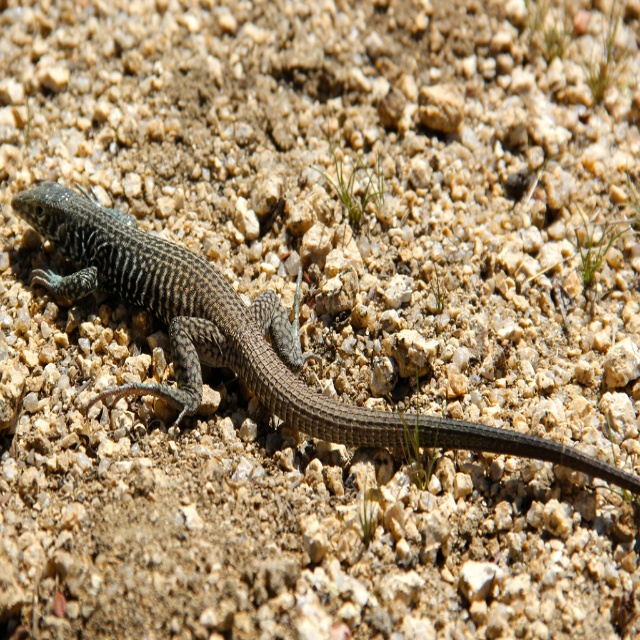Lizard: (10, 182, 640, 493)
